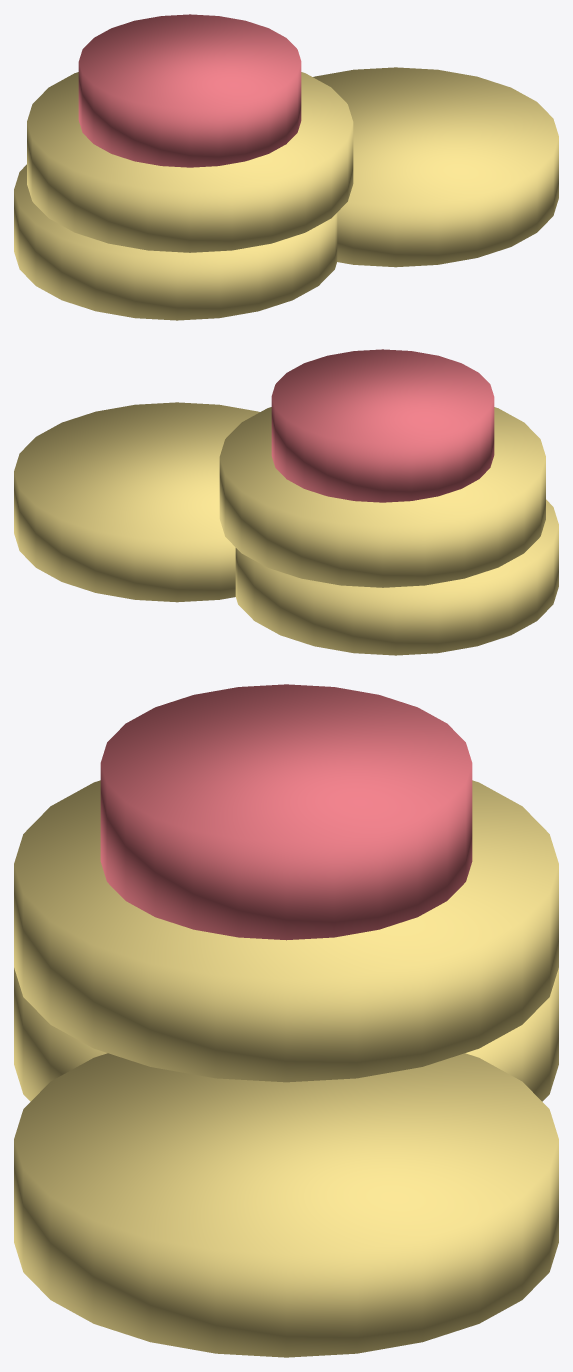
The model's file is prop_imposto.glb.
3 views of the same model, one above another, from view 1: azimuth 30°, elevation 25°; view 2: azimuth 150°, elevation 25°; view 3: azimuth 270°, elevation 25° (orthographic). The views are drawn at different scales.
Visible parts, largest first — view 1: CoinB1, CoinA2, WaxSeal, CoinA1; view 2: CoinB1, CoinA2, WaxSeal, CoinA1; view 3: CoinB1, CoinA2, WaxSeal, CoinA1.
Boxes of the visible parts, bbox=[...] form: CoinB1: bbox=[313, 67, 558, 267]; CoinA2: bbox=[27, 72, 353, 252]; WaxSeal: bbox=[78, 14, 301, 167]; CoinA1: bbox=[14, 164, 337, 320]; CoinB1: bbox=[14, 402, 259, 602]; CoinA2: bbox=[219, 407, 545, 587]; WaxSeal: bbox=[271, 349, 494, 502]; CoinA1: bbox=[235, 499, 558, 655]; CoinB1: bbox=[14, 1053, 558, 1357]; CoinA2: bbox=[14, 780, 558, 1082]; WaxSeal: bbox=[100, 684, 472, 940]; CoinA1: bbox=[14, 968, 558, 1101].
Size of the model in its own units: 0.39 by 0.139 by 0.22.
